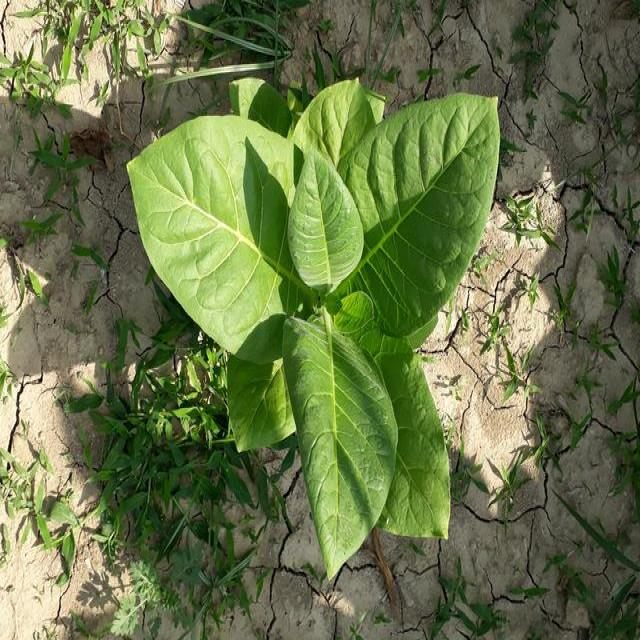crop: (135, 74, 500, 569)
